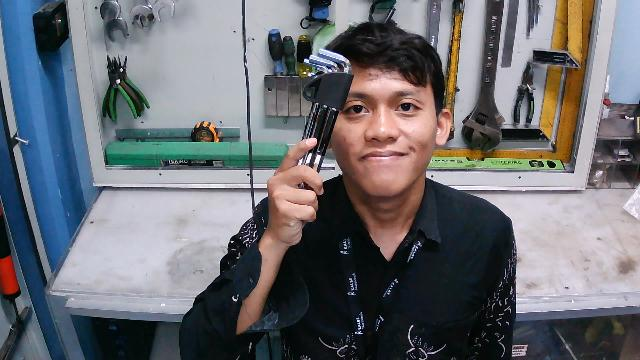kunci_l: (285, 45, 354, 235)
